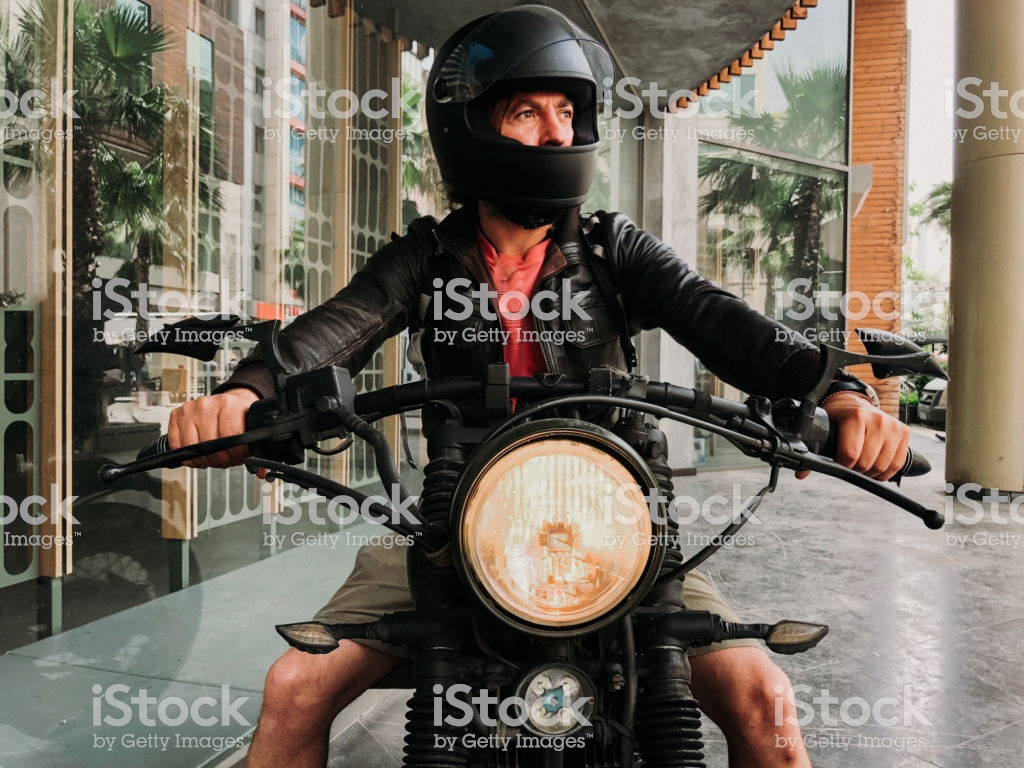helmet: (427, 18, 614, 216)
